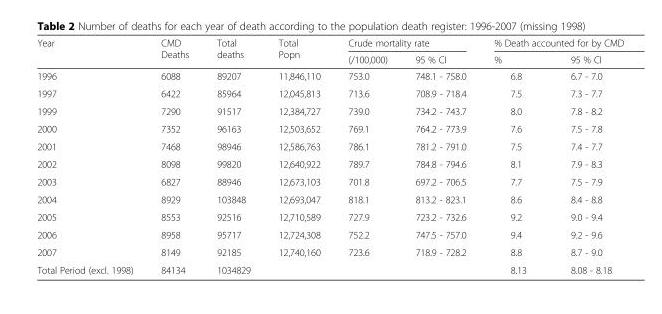table: (36, 36, 623, 275)
table column: (36, 36, 146, 275), (400, 36, 479, 275), (547, 36, 623, 275), (263, 36, 333, 275), (479, 36, 547, 275), (333, 36, 400, 275), (202, 36, 263, 275), (146, 36, 202, 275)
table column header: (36, 36, 623, 67)
table row: (36, 84, 623, 102), (36, 119, 623, 137), (36, 154, 623, 172), (36, 172, 623, 190), (36, 207, 623, 225), (36, 225, 623, 243), (36, 50, 623, 67), (36, 67, 623, 84), (36, 102, 623, 119), (36, 137, 623, 154), (36, 190, 623, 207), (36, 243, 623, 260), (36, 260, 623, 275), (36, 36, 623, 50)
table spanning cell: (36, 36, 146, 67), (263, 36, 333, 67), (333, 36, 479, 50), (479, 36, 623, 50), (202, 36, 263, 67), (146, 36, 202, 67)
